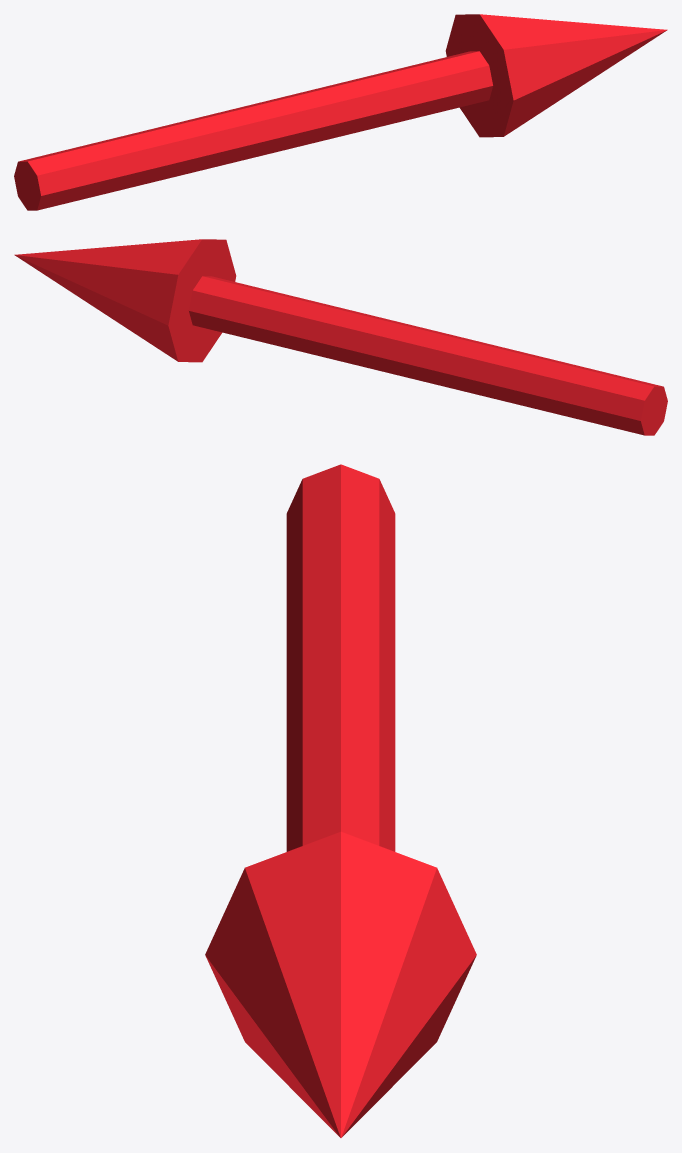
File: x-axis.obj
3 views of the same model, one above another, from view 1: azimuth 30°, elevation 25°; view 2: azimuth 150°, elevation 25°; view 3: azimuth 270°, elevation 25° (orthographic). The views are drawn at different scales.
Visible parts, largest first — view 1: Cylinder, Cone; view 2: Cylinder, Cone; view 3: Cone, Cylinder.
Boxes of the visible parts, x1,y1,x2,y2 form: Cylinder: [14, 51, 493, 210]; Cone: [445, 14, 667, 137]; Cylinder: [188, 276, 667, 435]; Cone: [14, 239, 236, 362]; Cone: [205, 831, 476, 1137]; Cylinder: [286, 464, 395, 851].
Size of the model in its own units: 2.72 by 0.5 by 0.5.
Materials: 1 (1 with a texture image).
